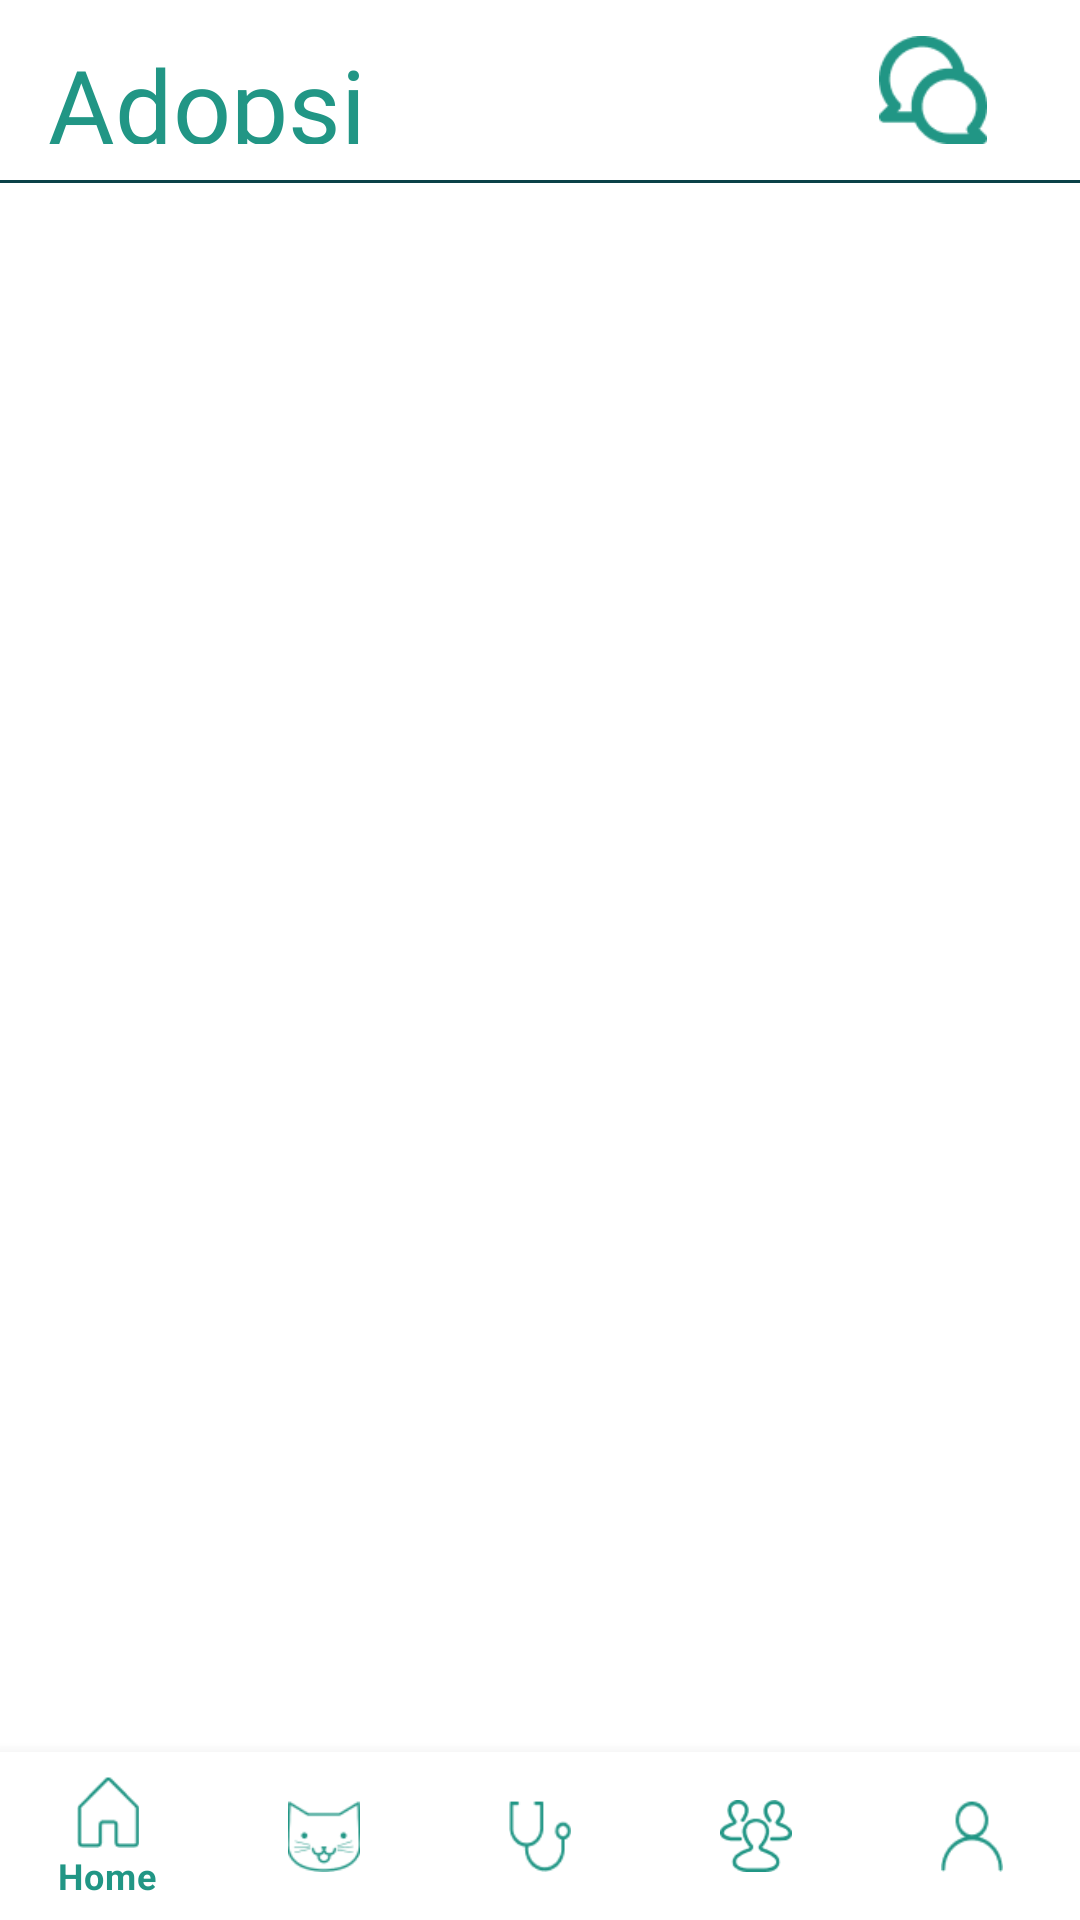

Icons on this 1080×1920 Android screen, each with its box as (x1, y1, x2, y2):
chat: (879, 36, 987, 144)
